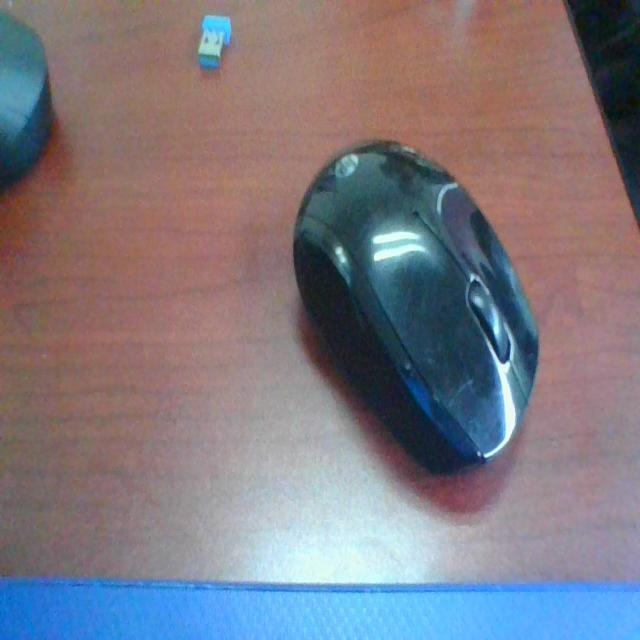Mouse: (286, 128, 558, 512)
